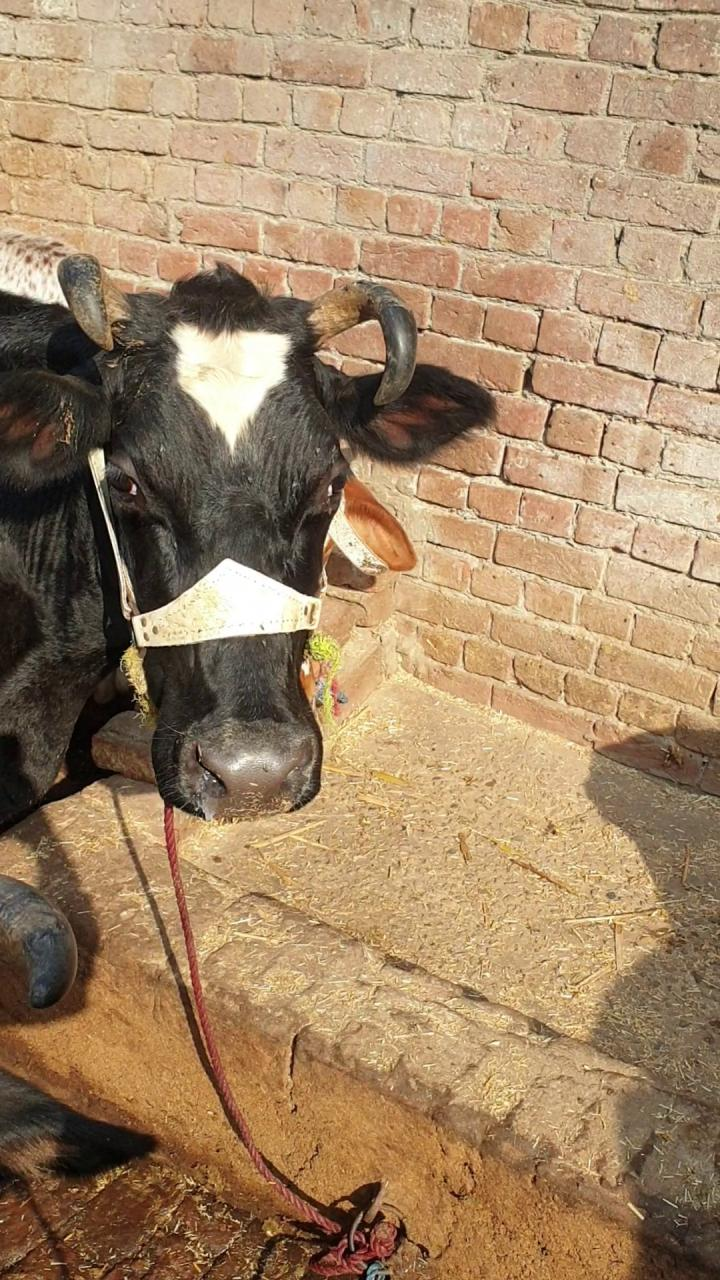cows: (83, 267, 393, 850)
